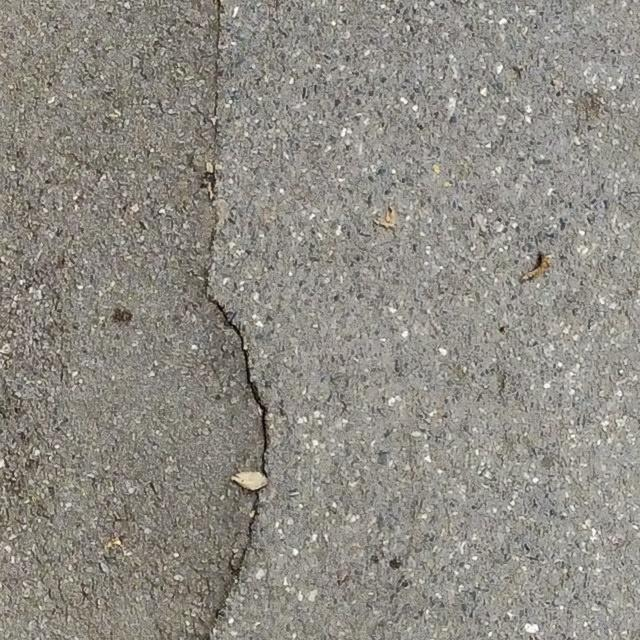LongitudinalCrack: (198, 1, 269, 640)
